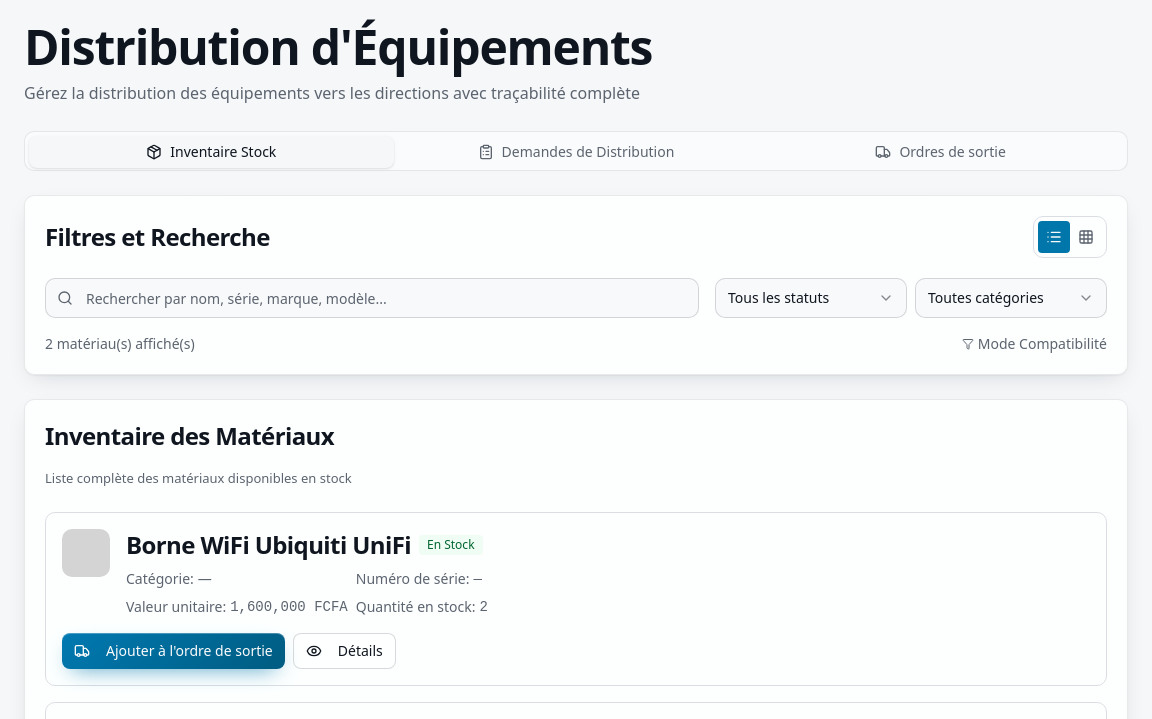
Test case: Inventaire → « Ajouter à l'ordre de sortie » › bascule vers l'onglet « Ordres de sortie » où le formulaire est pré-rempli
Click the button "Ajouter à l'ordre de sortie": (173, 651) [62, 633, 285, 669]
(page scrolled)
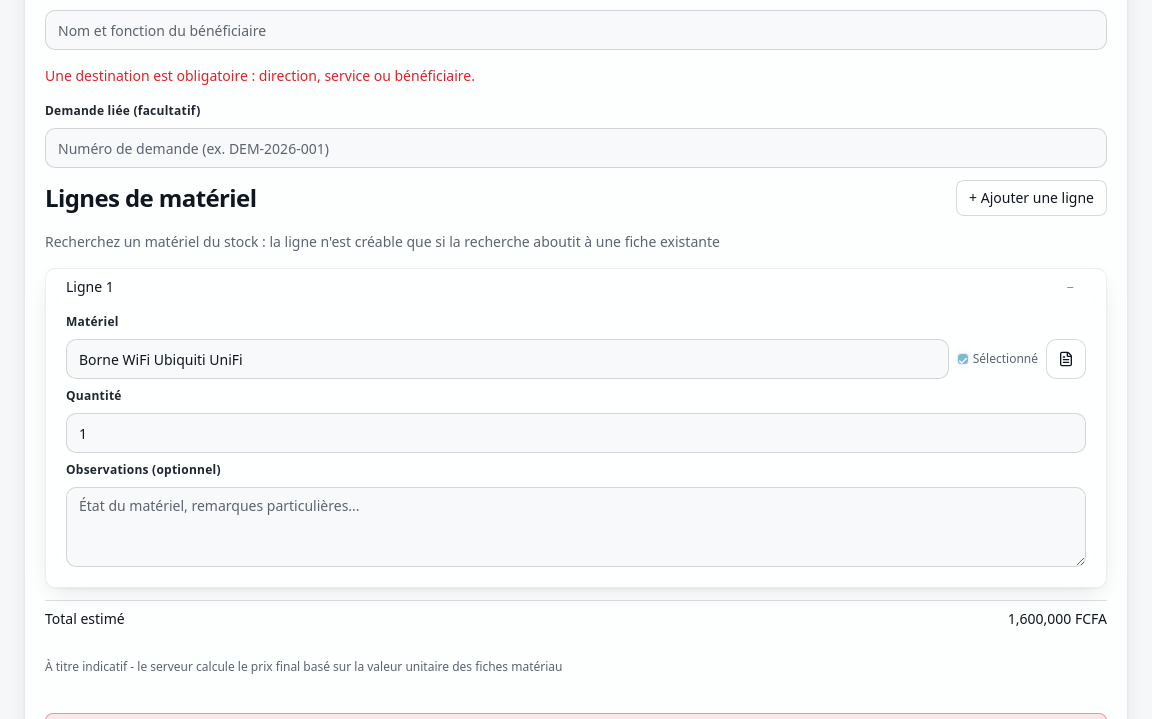
expect the field with placeholder "Commencez à taper pour rechercher un matériel..." holds "Borne WiFi Ubiquiti UniFi": met, box [66, 339, 949, 379]
expect the text "Sélectionné" is shown: met, box [973, 351, 1038, 367]
expect no headings "Borne WiFi Ubiquiti UniFi" are shown: met
